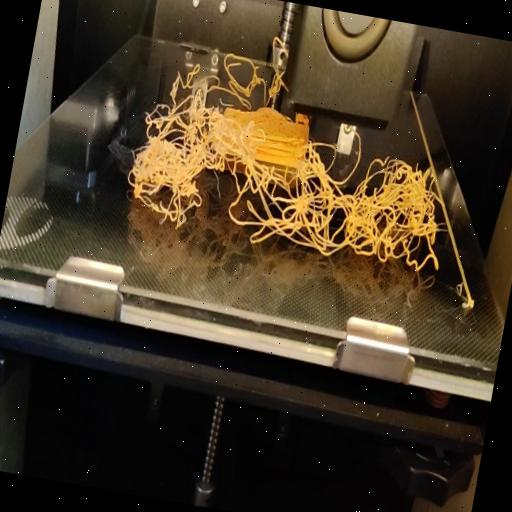spaghetti: (120, 92, 458, 278), (170, 18, 291, 116)
